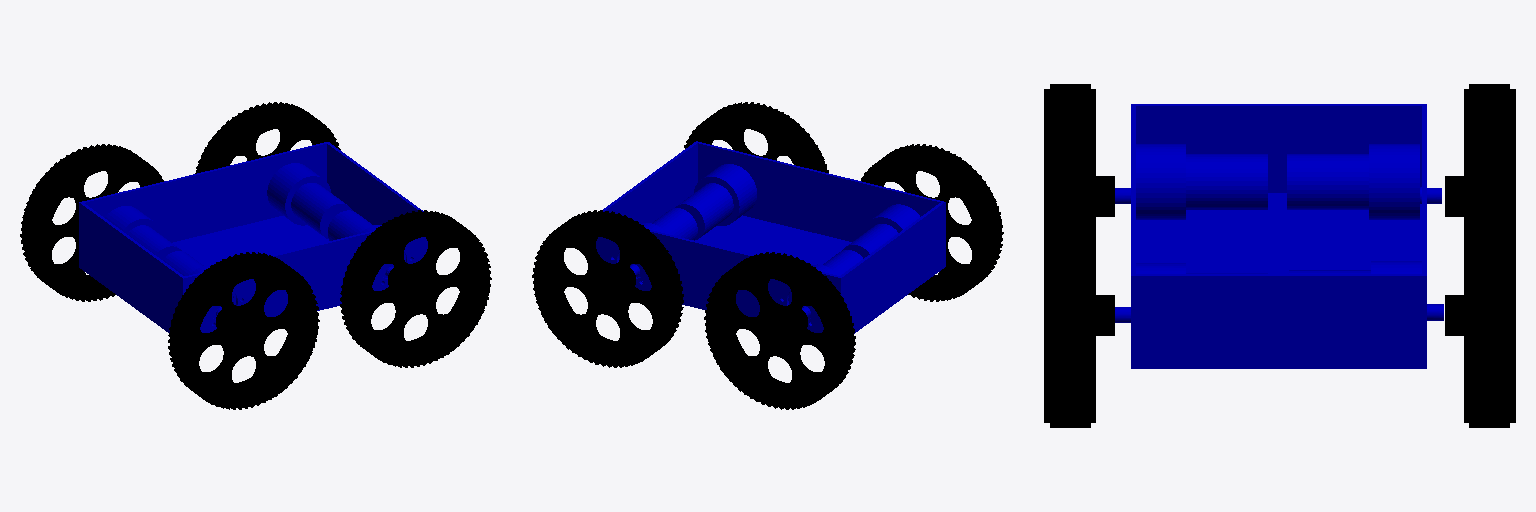
The robot description file, URDF, robot "physics":
<?xml version="1.0"?>
<robot name="physics">

<material name="blue">
    <color rgba="0 0 0.8 1"/>
  </material>
  <material name="black">
    <color rgba="0 0 0 1"/>
  </material>
  <material name="white">
    <color rgba="1 1 1 1"/>
  </material>
  <link name="base_link">
    <visual>
      <geometry>
        <mesh filename="package://robot_description/meshes/base_link.dae" />
      </geometry>
      <material name="blue"/>
    </visual>
      <collision>
      <origin rpy="0 0 0" xyz="0 0 0"/>
      <geometry>
        <mesh filename="package://robot_description/meshes/base_link.dae" />
      </geometry>
    </collision>
    <inertial>
      <mass value="2.0"/>
      <inertia ixx="1.0" ixy="0.0" ixz="0.0" iyy="1.0" iyz="0.0" izz="1.0"/>
    </inertial>
  </link>







    <link name="front_right_wheel">
    <visual>
    <origin rpy="-1.57075 0 0" xyz="0 0 0"/>
      <geometry>
      <mesh filename="package://robot_description/meshes/wheel.dae" />
      </geometry>
      <material name="black"/>
    </visual>
    <collision>
      <origin rpy="-1.57075 0 0" xyz="0 0 0"/>
      <geometry>
        <mesh filename="package://robot_description/meshes/wheel.dae" />
      </geometry>
    </collision>
    <inertial>
      <mass value="0.2"/>
      <inertia ixx="1.0" ixy="0.0" ixz="0.0" iyy="1.0" iyz="0.0" izz="1.0"/>
    </inertial>
  </link>


  <joint name="front_right_wheel_joint" type="continuous">
    <axis rpy="0 0 0" xyz="0 1 0"/>
    <parent link="base_link"/>
    <child link="front_right_wheel"/>
    <origin rpy="0 0 0" xyz="-0.69 -1.0 0.075"/>
  </joint>







    <link name="front_left_wheel">
    <visual>
      <origin rpy="1.57075 0 0" xyz="0 0 0"/>
      <geometry>

      <mesh filename="package://robot_description/meshes/wheel.dae" />
      </geometry>
      <material name="black"/>
    </visual>
    <collision>
      <origin rpy="1.57075 0 0" xyz="0 0 0"/>
      <geometry>
        <mesh filename="package://robot_description/meshes/wheel.dae" />
      </geometry>
    </collision>
    <inertial>
      <mass value="0.2"/>
      <inertia ixx="1.0" ixy="0.0" ixz="0.0" iyy="1.0" iyz="0.0" izz="1.0"/>
    </inertial>
  </link>


  <joint name="front_left_wheel_joint" type="continuous">
    <axis rpy="0 0 0" xyz="0 1 0"/>
    <parent link="base_link"/>
    <child link="front_left_wheel"/>
    <origin rpy="0 0 0" xyz="-0.69 1.0 0.075"/>
  </joint>



    <link name="back_right_wheel">
    <visual>
    <origin rpy="-1.57075 0 0" xyz="0 0 0"/>
      <geometry>

      <mesh filename="package://robot_description/meshes/wheel.dae" />
      </geometry>
      <material name="black"/>
    </visual>
        <collision>
      <origin rpy="-1.57075 0 0" xyz="0 0 0"/>
      <geometry>
        <mesh filename="package://robot_description/meshes/wheel.dae" />
      </geometry>
    </collision>
    <inertial>
      <mass value="0.2"/>
      <inertia ixx="1.0" ixy="0.0" ixz="0.0" iyy="1.0" iyz="0.0" izz="1.0"/>
    </inertial>
  </link>


  <joint name="back_right_wheel_joint" type="continuous">
    <axis rpy="0 0 0" xyz="0 1 0"/>
    <parent link="base_link"/>
    <child link="back_right_wheel"/>
    <origin rpy="0 0 0" xyz="0.69 -1.0 0.075"/>
  </joint>




    <link name="back_left_wheel">
    <visual>
      <origin rpy="1.57075 0 0" xyz="0 0 0"/>
      <geometry>

      <mesh filename="package://robot_description/meshes/wheel.dae" />
      </geometry>
      <material name="black"/>
    </visual>
        <collision>
      <origin rpy="1.57075 0 0" xyz="0 0 0"/>
      <geometry>
        <mesh filename="package://robot_description/meshes/wheel.dae" />
      </geometry>
    </collision>
    <inertial>
      <mass value="0.2"/>
      <inertia ixx="1.0" ixy="0.0" ixz="0.0" iyy="1.0" iyz="0.0" izz="1.0"/>
    </inertial>
  </link>


  <joint name="back_left_wheel_joint" type="continuous">
    <axis rpy="0 0 0" xyz="0 1 0"/>
    <parent link="base_link"/>
    <child link="back_left_wheel"/>
    <origin rpy="0 0 0" xyz="0.69 1.0 0.075"/>
  </joint>


</robot>

--- Facts derived from the render (not from the file) ---
3 views of the same robot in one strip: view 1: azimuth 30°, elevation 25°; view 2: azimuth 150°, elevation 25°; view 3: azimuth 270°, elevation 25° (orthographic).
Robot: physics — 5 links, 4 joints (4 continuous); root link base_link; default pose: every joint at zero.
Visible links, largest first — view 1: base_link, front_right_wheel, back_right_wheel, front_left_wheel, back_left_wheel; view 2: base_link, front_left_wheel, back_left_wheel, front_right_wheel, back_right_wheel; view 3: base_link, back_right_wheel, back_left_wheel, front_right_wheel, front_left_wheel.
Link boxes in pixels (x1,y1,x2,y2): base_link: (79,142,427,332); front_right_wheel: (168,252,319,409); back_right_wheel: (340,210,491,367); front_left_wheel: (20,144,163,301); back_left_wheel: (195,102,340,173); base_link: (596,141,945,333); front_left_wheel: (704,252,855,409); back_left_wheel: (532,210,683,367); front_right_wheel: (861,144,1003,301); back_right_wheel: (684,102,828,172); base_link: (1115,104,1443,368); back_right_wheel: (1044,203,1114,427); back_left_wheel: (1445,203,1515,427); front_right_wheel: (1044,84,1114,216); front_left_wheel: (1445,84,1515,216).
Size in the robot's own frame: 2.48 by 2.3 by 1.1 metres.
5 mesh visuals loaded from 2 distinct referenced files (2 Collada DAE).
